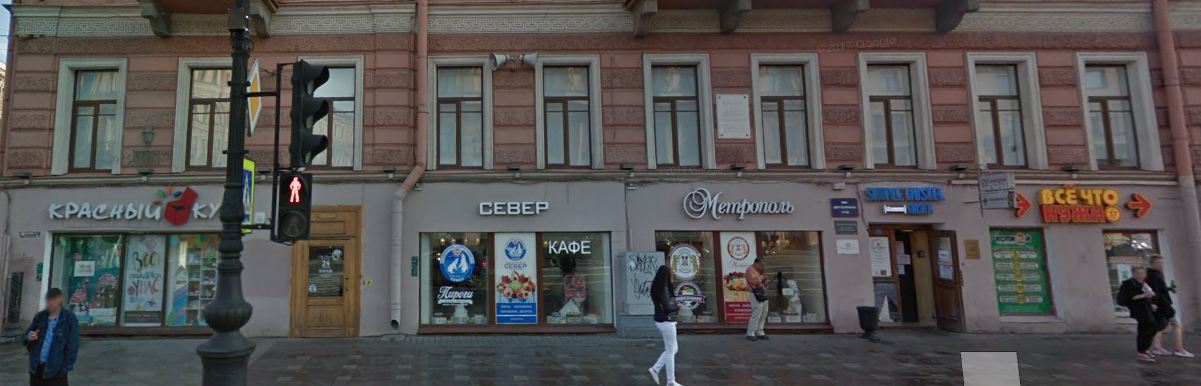cantilever: (957, 160, 1017, 225)
door: (871, 225, 965, 332), (299, 239, 354, 333)
signboard: (1019, 183, 1161, 230), (43, 189, 223, 225), (665, 181, 802, 225), (476, 194, 547, 219)
window: (420, 231, 615, 331), (48, 229, 223, 331), (658, 232, 832, 328), (977, 60, 1037, 168), (864, 62, 925, 168), (61, 63, 118, 176), (990, 225, 1058, 318), (759, 60, 815, 169), (652, 64, 708, 171), (1089, 67, 1142, 172), (181, 68, 235, 169), (541, 67, 594, 164), (433, 65, 481, 168), (319, 69, 356, 167)
